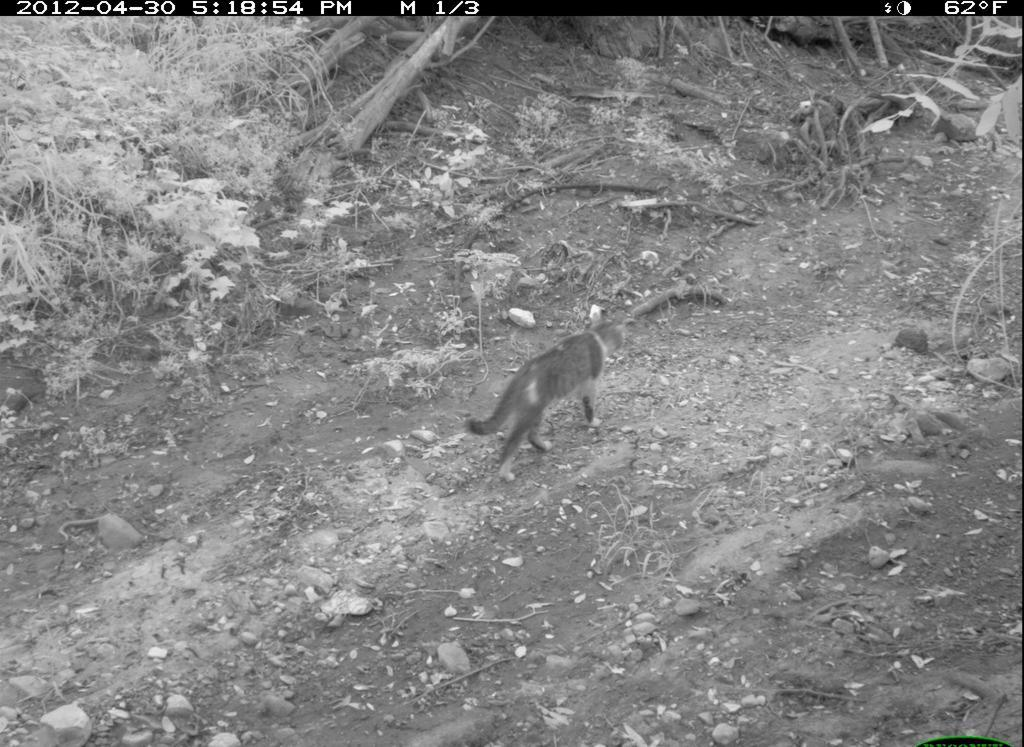cat: (460, 303, 638, 489)
